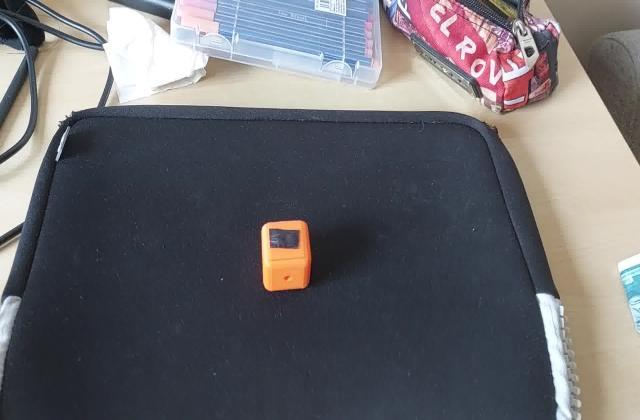black: (266, 226, 304, 253)
sticker: (260, 218, 315, 294)
